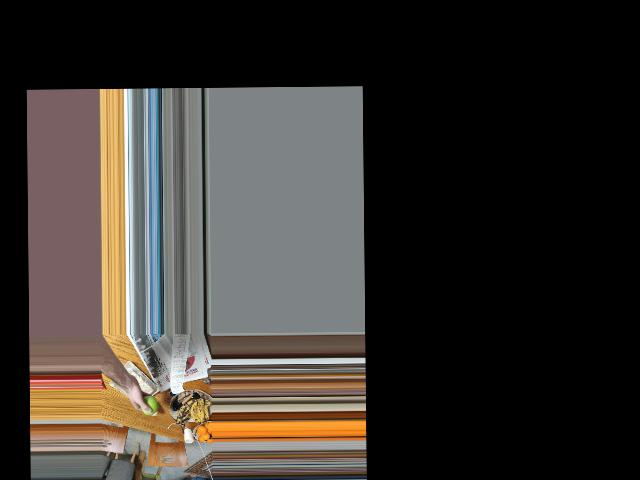apple: (137, 393, 156, 415)
